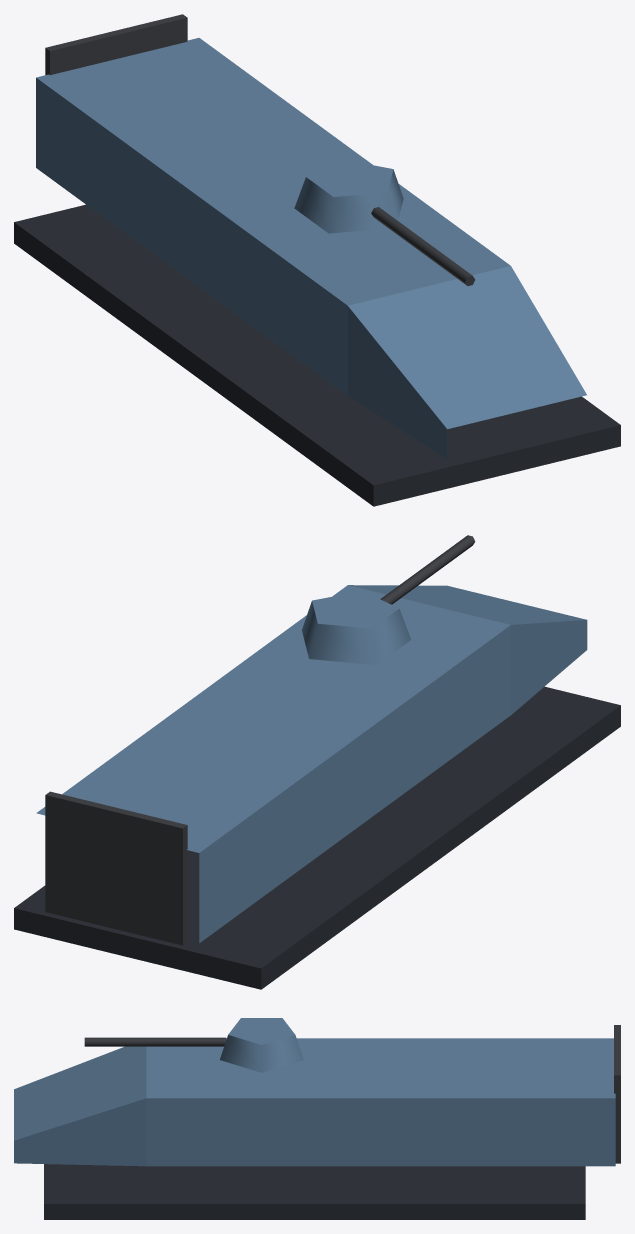
The model's file is veh_ground_apc_a10_lod1.glb.
The picture shows the model from 3 angles, top to bottom: view 1: azimuth 30°, elevation 25°; view 2: azimuth 150°, elevation 25°; view 3: azimuth 270°, elevation 25°; orthographic projection. The views are drawn at different scales.
Parts seen in each view (by area): view 1: body, gun, ramp; view 2: body, ramp, gun; view 3: body, gun, ramp.
Part boxes in pixels (<box>): body: <box>14,38,620,506</box>; gun: <box>294,159,475,285</box>; ramp: <box>45,14,187,75</box>; body: <box>14,585,620,989</box>; ramp: <box>45,791,187,945</box>; gun: <box>302,535,475,664</box>; body: <box>14,1038,615,1219</box>; gun: <box>84,1018,303,1072</box>; ramp: <box>614,1025,620,1163</box>.
Size of the model in its own units: 2.43 by 1.84 by 6.86.
